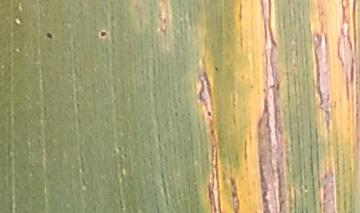tarspot: (96, 28, 112, 39), (45, 30, 55, 41), (212, 65, 222, 73), (206, 109, 213, 119)
